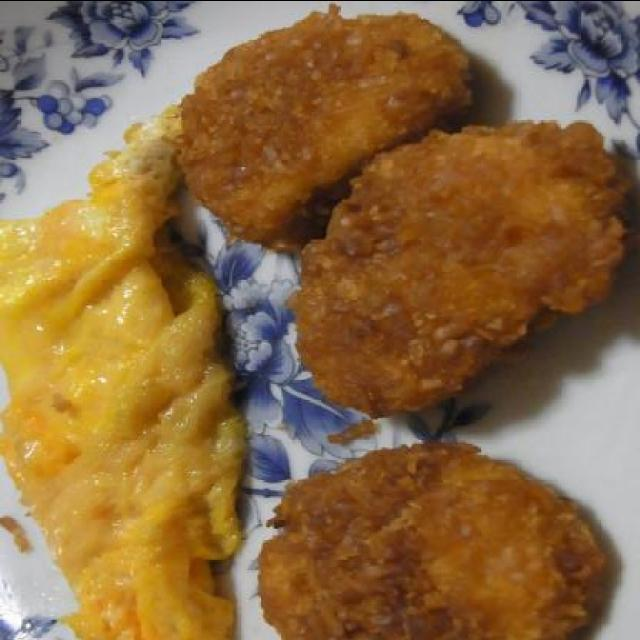Chicken nugget: (167, 1, 638, 632)
